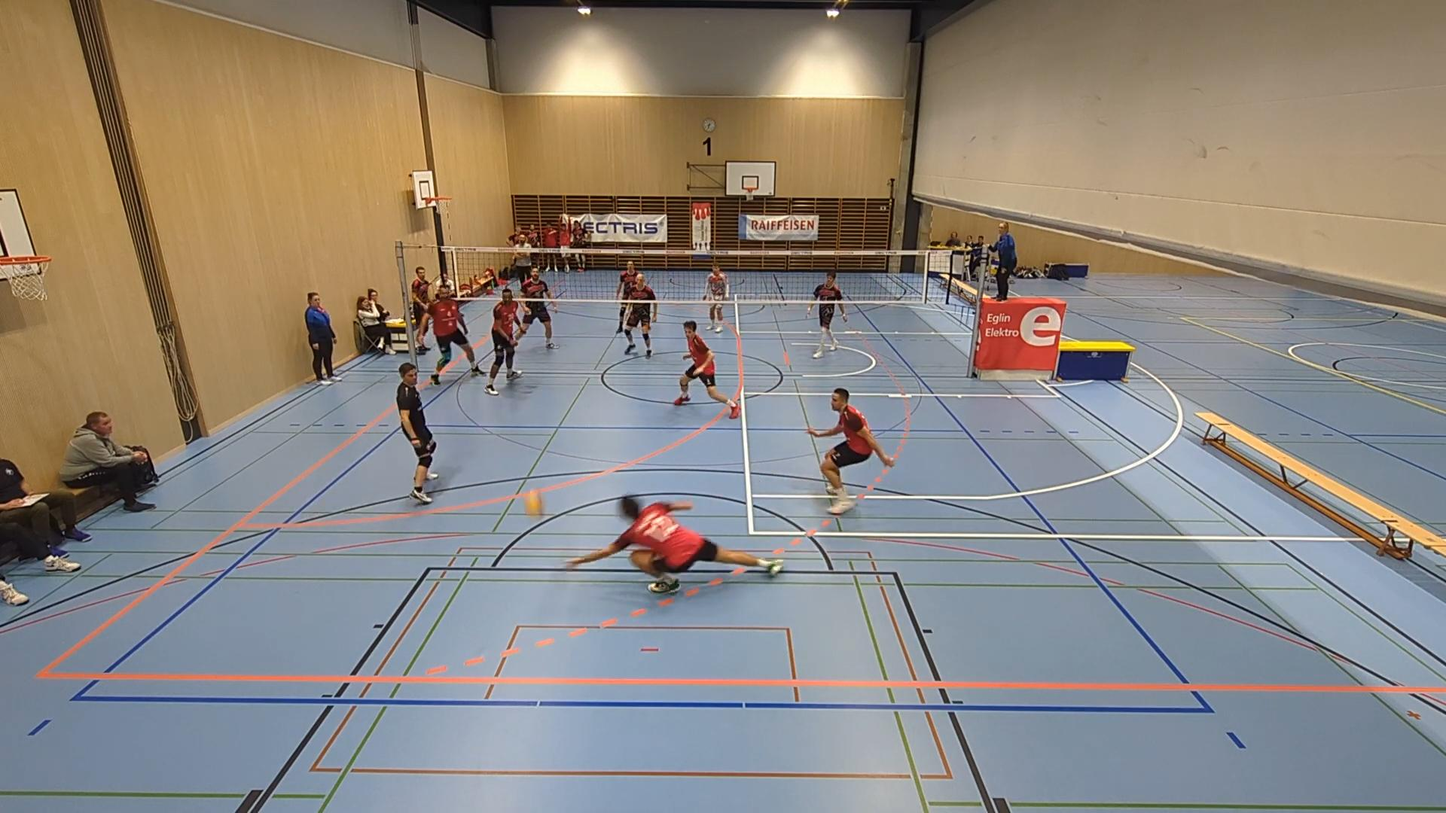Dig: (551, 504, 791, 601)
Player: (807, 388, 895, 514), (673, 320, 740, 419), (419, 283, 480, 384), (396, 363, 438, 504), (485, 288, 521, 395), (806, 271, 847, 358), (518, 267, 556, 348), (624, 273, 657, 356), (704, 263, 729, 332), (615, 260, 638, 333)
ball: (523, 488, 540, 514)
